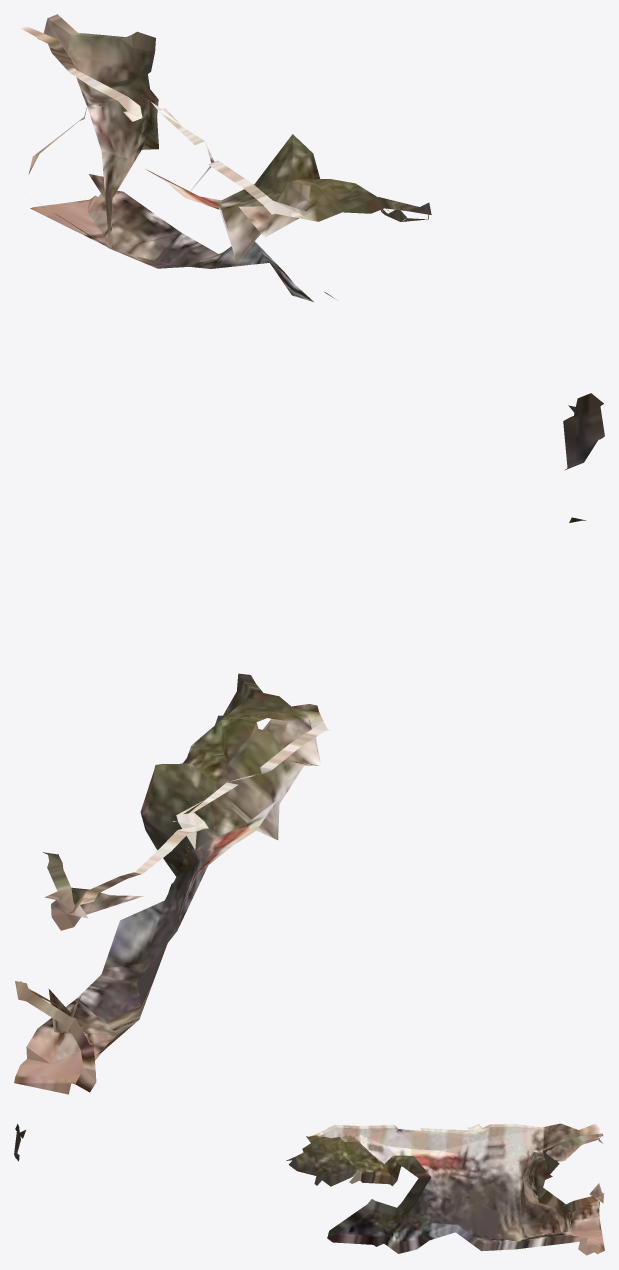
The picture shows the model from 3 angles, top to bottom: view 1: azimuth 30°, elevation 25°; view 2: azimuth 150°, elevation 25°; view 3: azimuth 270°, elevation 25°; orthographic projection. The views are drawn at different scales.
Parts seen in each view (by area): view 1: Mesh_0, eigenhaus; view 2: Mesh_0, eigenhaus; view 3: Mesh_0, eigenhaus.
Part boxes in pixels (x1,y1,x2,y2): Mesh_0: (20,14,604,470); eigenhaus: (74,73,351,261); Mesh_0: (14,517,586,1094); eigenhaus: (71,702,330,1028); Mesh_0: (14,1123,604,1255); eigenhaus: (306,1124,574,1225).
Bounding box in the file's own units: 5.65 × 8.64 × 38.93.
Materials: 1 (1 with a texture image).
